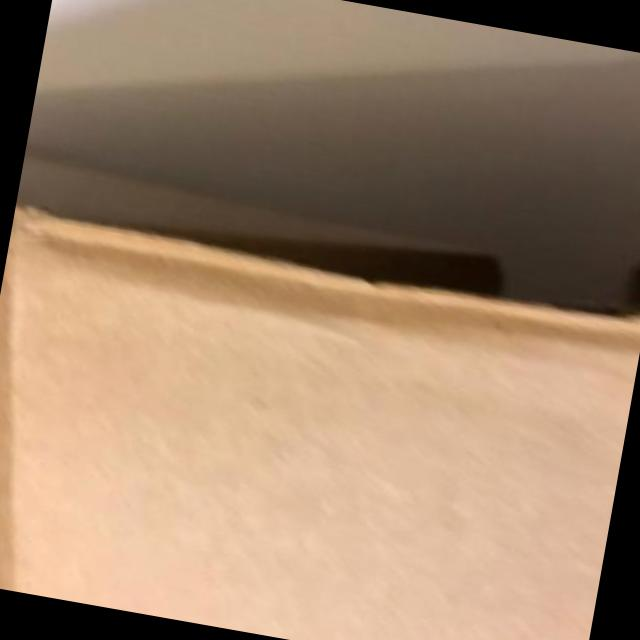cardboard paper: (0, 209, 640, 640)
